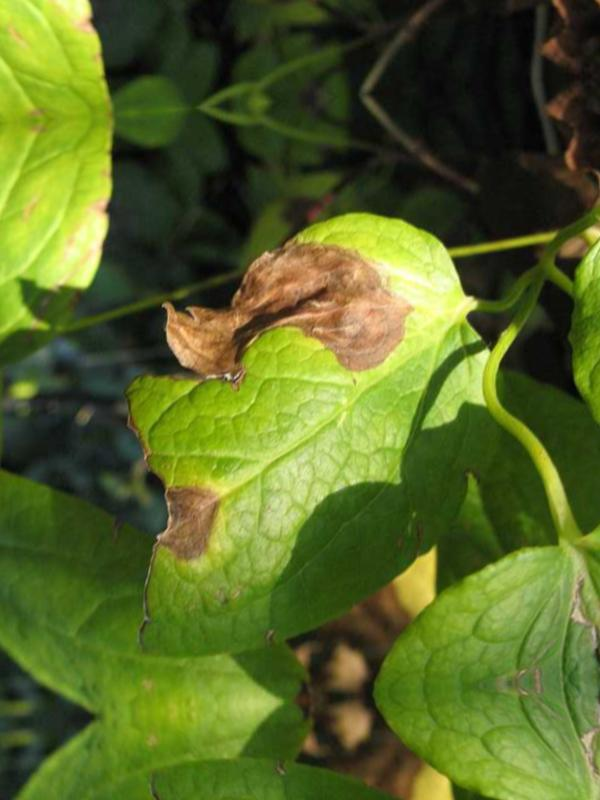Tomato leaf bacterial spot: (101, 181, 519, 666)
